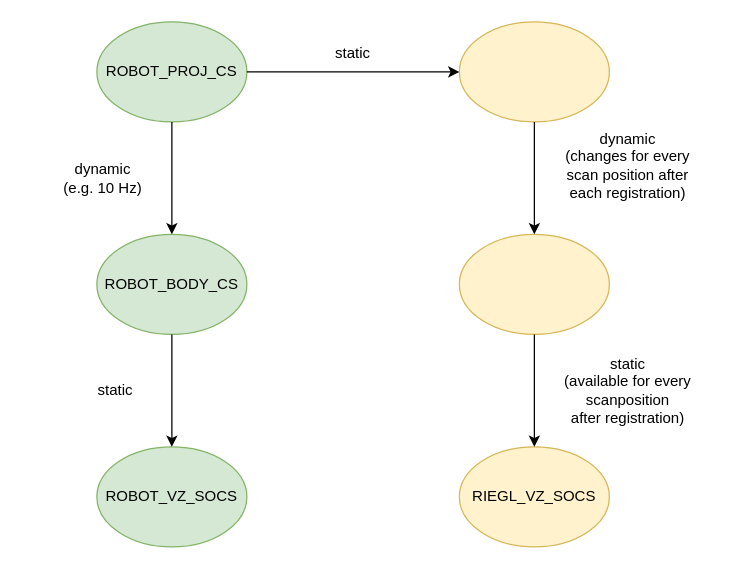
The diagram is 755 pixels wide and 569 high, and some of its shapes have lost their labels. The centre of each missing label's shape, as x and y in pixels:
"RIEGL_VZ_PRCS" belongs at (533,71).
"RIEGL_VZ_VOCS" belongs at (533,283).
